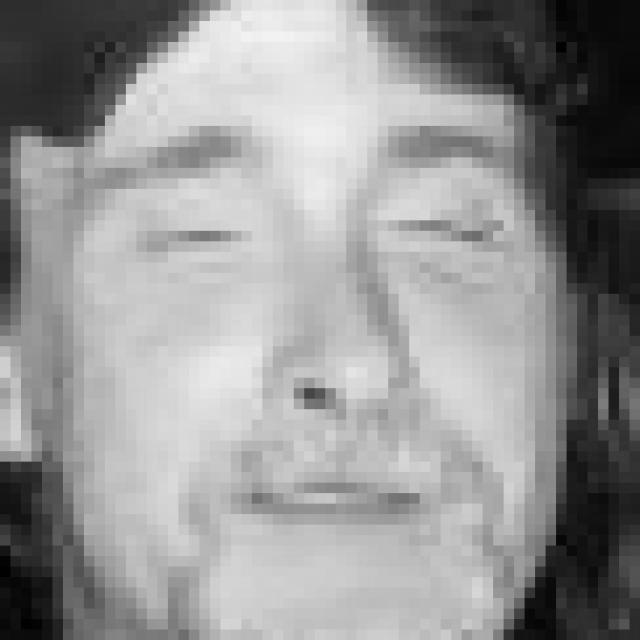real: (42, 0, 567, 640), (105, 170, 525, 292)
